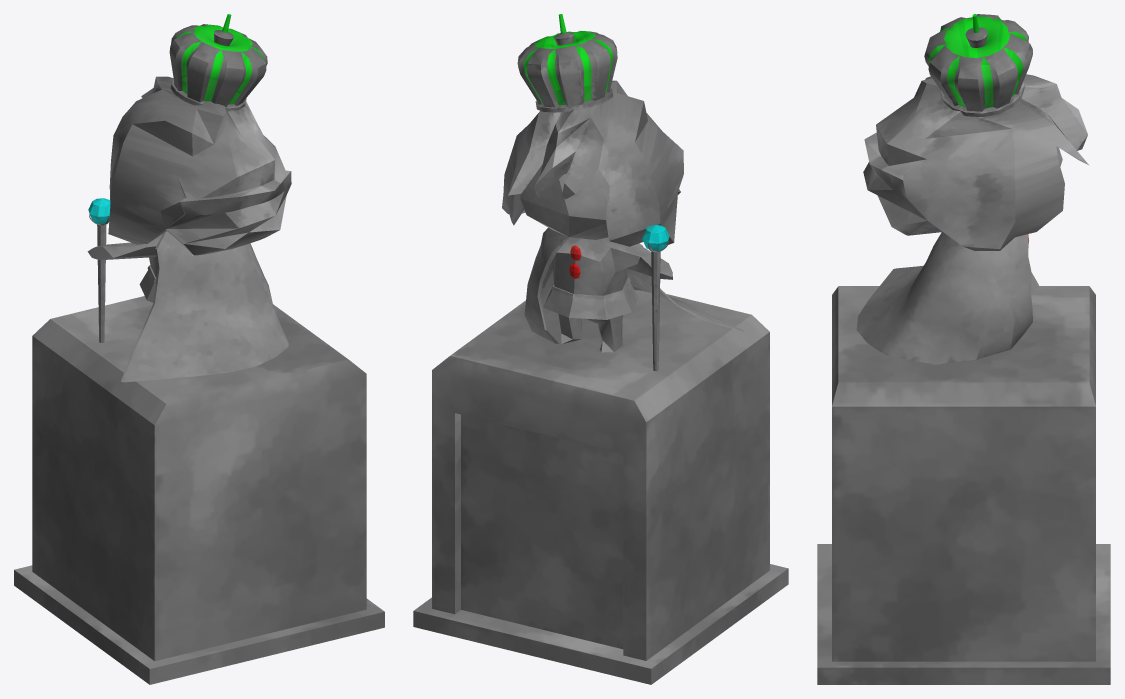
3 views of the same model, side by side, from view 1: azimuth 30°, elevation 25°; view 2: azimuth 150°, elevation 25°; view 3: azimuth 270°, elevation 25° (orthographic). The views are drawn at different scales.
Parts seen in each view (by area): view 1: Base_FHE; view 2: Base_FHE; view 3: Base_FHE.
Part boxes in pixels (box(x1,y1,x2,y2)): Base_FHE: box(14, 14, 384, 684); Base_FHE: box(413, 14, 788, 684); Base_FHE: box(817, 14, 1110, 684).
Size of the model in its own units: 155 by 364 by 155.
Materials: 4 (1 with a texture image).
